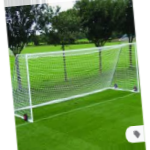goals: (12, 41, 140, 121)
